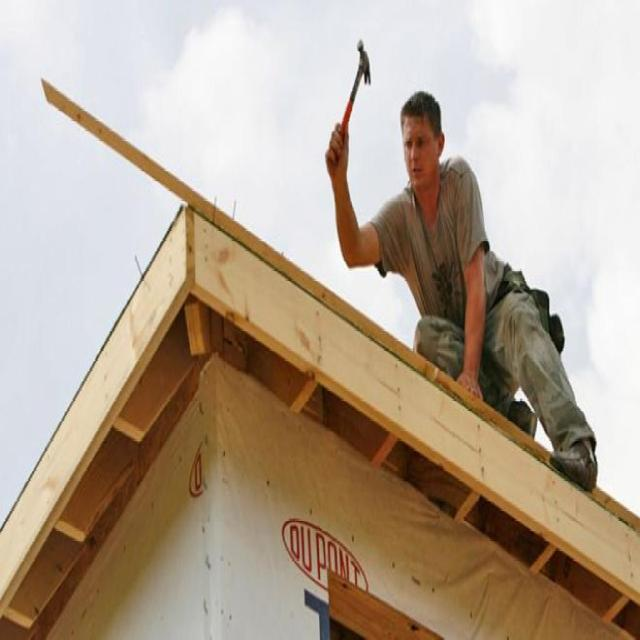Face: (396, 96, 442, 198)
